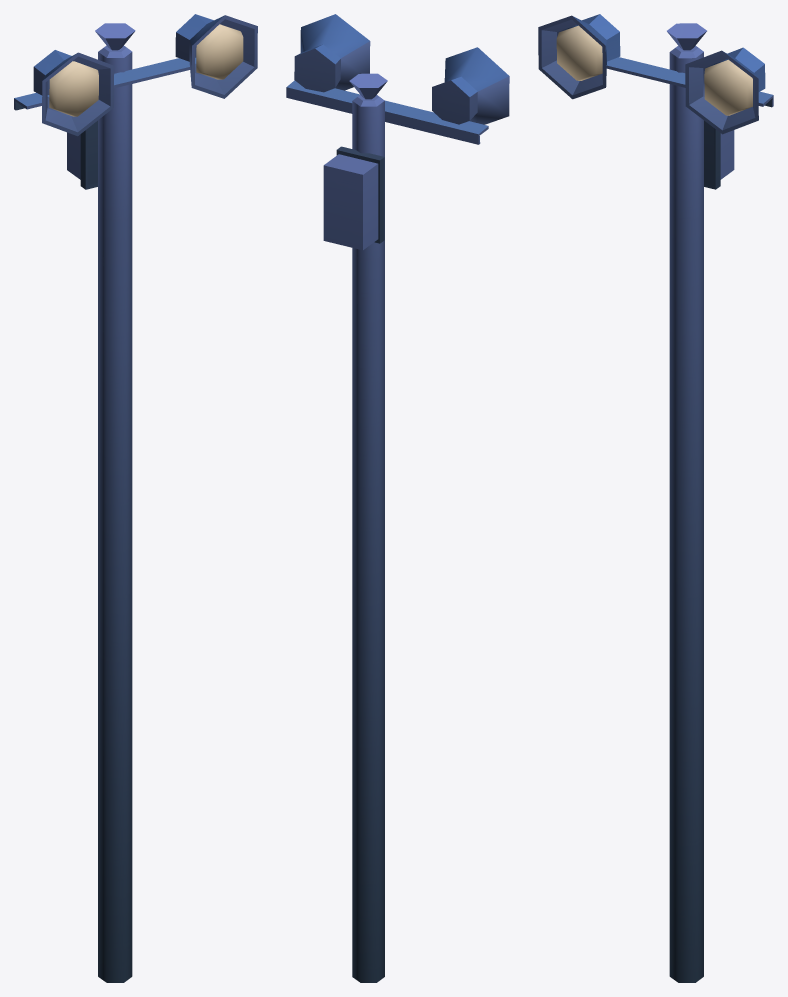
The model's file is MSH_PosteLuz_1.fbx.
The picture shows the model from 3 angles, left to right: view 1: azimuth 30°, elevation 25°; view 2: azimuth 150°, elevation 25°; view 3: azimuth 330°, elevation 25°; orthographic projection. The views are drawn at different scales.
Parts seen in each view (by area): view 1: MSH_PosteLuz_003, MSH_PosteLuz_1_luces001; view 2: MSH_PosteLuz_003; view 3: MSH_PosteLuz_003, MSH_PosteLuz_1_luces001.
Part boxes in pixels (box(x1,y1,x2,y2)): MSH_PosteLuz_003: box(14, 14, 257, 982); MSH_PosteLuz_1_luces001: box(49, 24, 243, 116); MSH_PosteLuz_003: box(286, 14, 509, 982); MSH_PosteLuz_003: box(538, 14, 773, 982); MSH_PosteLuz_1_luces001: box(556, 25, 752, 115).
Size of the model in its own units: 82.32 by 351 by 44.02.
